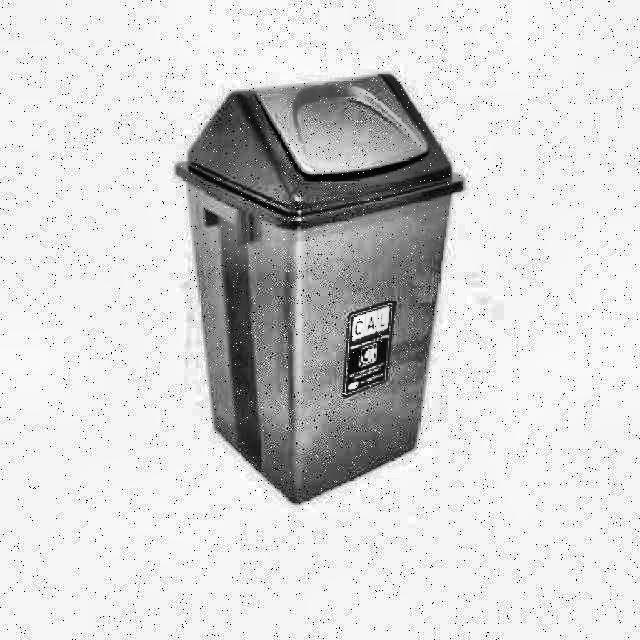Dustbin: (172, 64, 474, 522)
